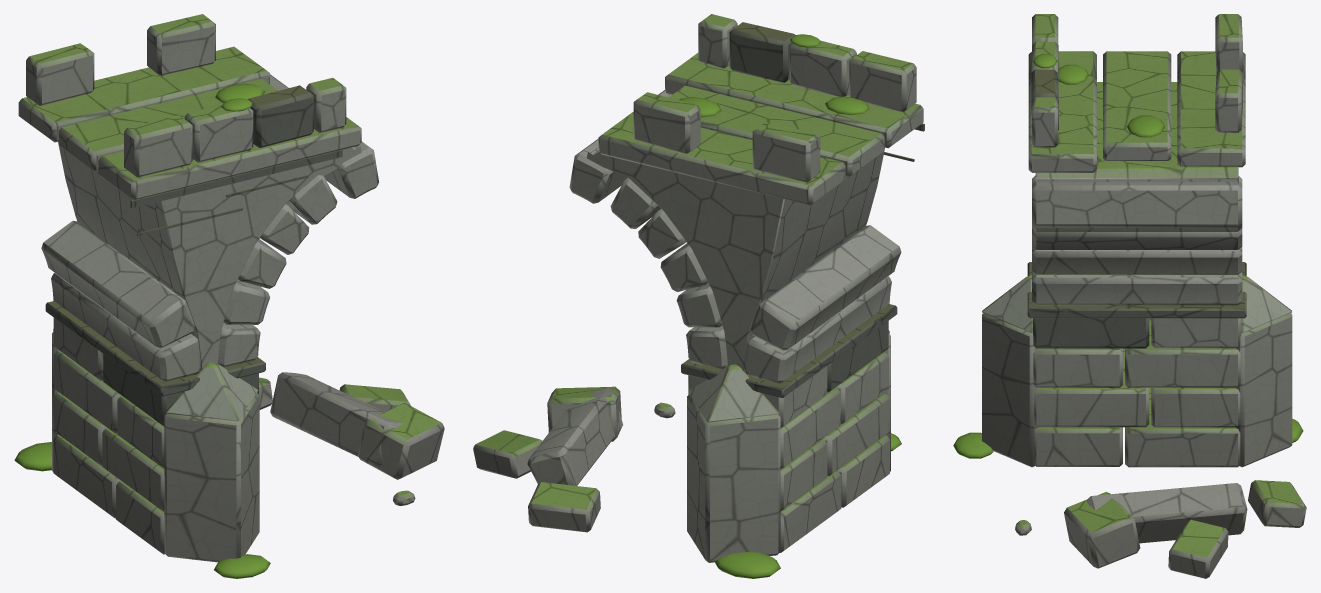
The model's file is stone_bridge_fragment.glb.
3 renders of one model, left to right at view 1: azimuth 30°, elevation 25°; view 2: azimuth 150°, elevation 25°; view 3: azimuth 270°, elevation 25°, orthographic. The views are drawn at different scales.
Visible parts, largest first — view 1: stone_bridge_fragment; view 2: stone_bridge_fragment; view 3: stone_bridge_fragment.
Part boxes in pixels (<box>): stone_bridge_fragment: <box>14,14,444,578</box>; stone_bridge_fragment: <box>473,14,924,578</box>; stone_bridge_fragment: <box>953,14,1306,578</box>.
Size of the model in its own units: 4.51 by 5.16 by 4.04.
3 materials, 3 textured.
